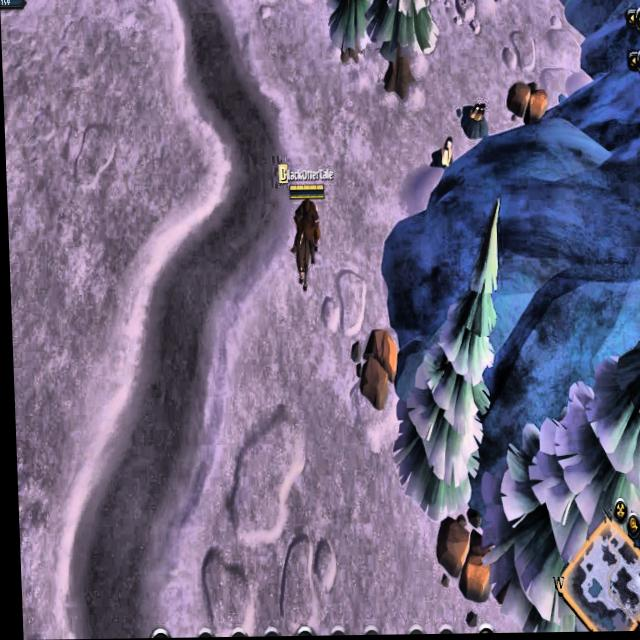copperore: (457, 97, 489, 137), (428, 130, 454, 173)
limestone: (429, 513, 488, 606), (353, 326, 397, 413), (504, 78, 551, 132)
